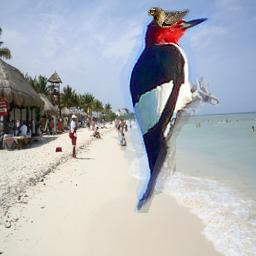Swallow: (148, 7, 190, 29)
Woodpecker: (111, 2, 219, 213)
